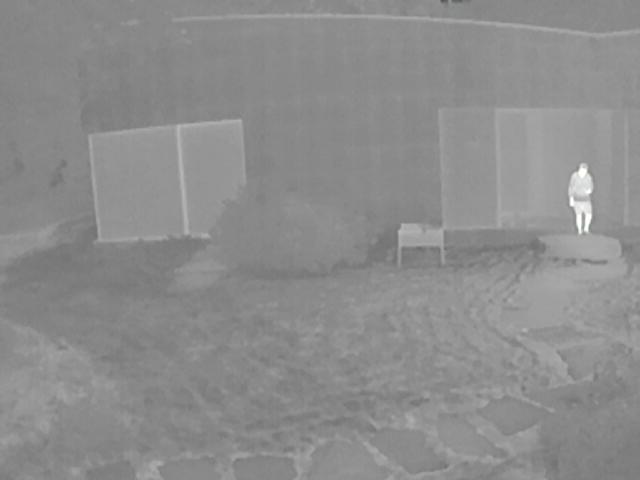person: (570, 163, 594, 235)
